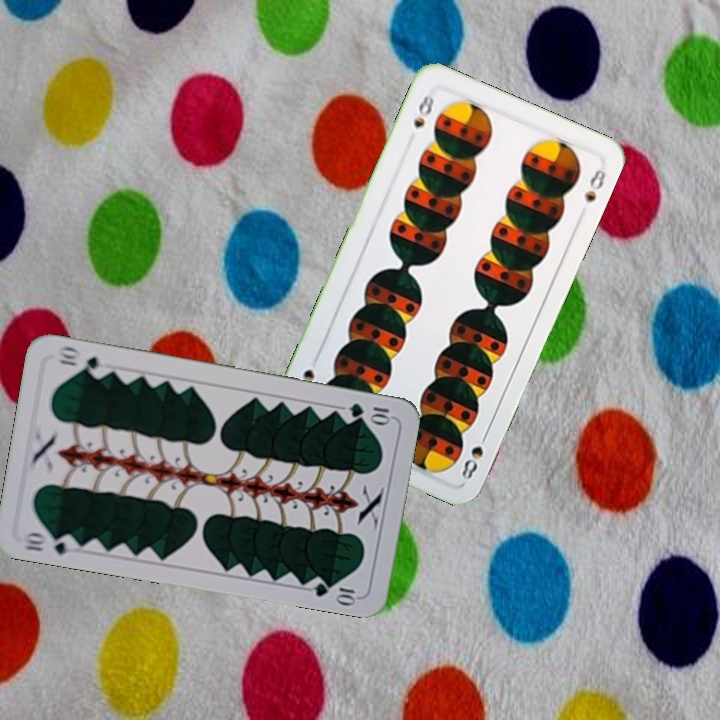G10: (19, 528, 79, 557), (345, 399, 394, 425)
S8: (457, 427, 491, 483), (409, 86, 437, 131)
